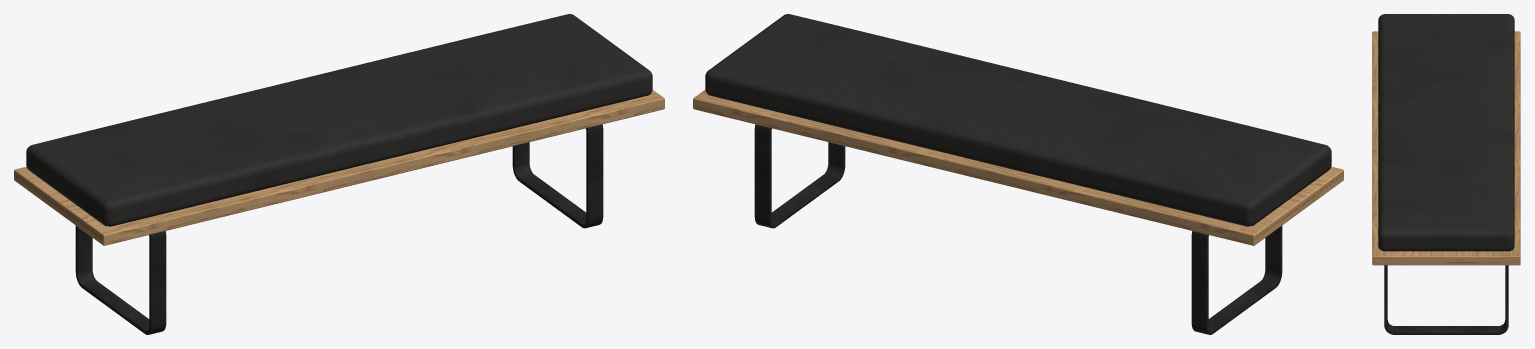
File: galeri_banki.glb
3 renders of one model, left to right at view 1: azimuth 30°, elevation 25°; view 2: azimuth 150°, elevation 25°; view 3: azimuth 270°, elevation 25°, orthographic. The views are drawn at different scales.
Visible parts, largest first — view 1: Leather_Cushion, Oak_Slab, Steel_Legs; view 2: Leather_Cushion, Oak_Slab, Steel_Legs; view 3: Leather_Cushion, Oak_Slab, Steel_Legs.
Boxes of the visible parts, x1,y1,x2,y2 form: Leather_Cushion: (26,14,652,226); Oak_Slab: (14,90,664,245); Steel_Legs: (75,124,603,334); Leather_Cushion: (705,14,1331,226); Oak_Slab: (693,90,1343,245); Steel_Legs: (754,124,1282,334); Leather_Cushion: (1378,14,1514,251); Oak_Slab: (1372,31,1520,265); Steel_Legs: (1384,265,1508,334).
Bounding box in the file's own units: 1.8 × 0.461 × 0.5.
3 materials, 3 textured.
